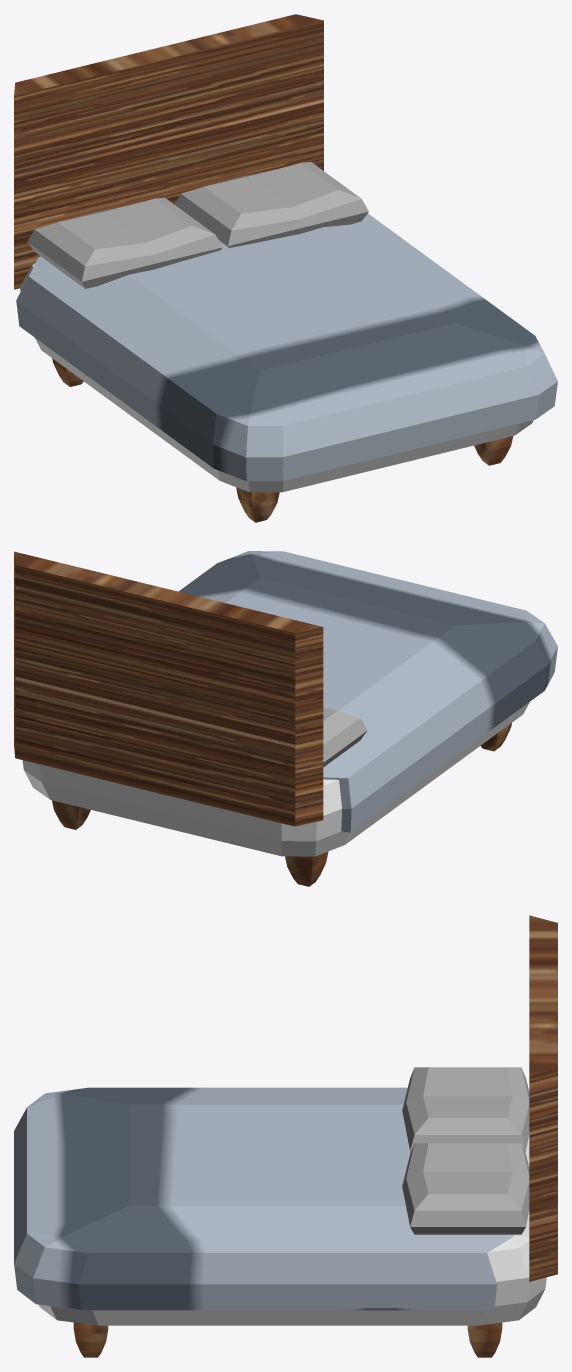
The model's file is Bed_Assets.fbx.
3 views of the same model, one above another, from view 1: azimuth 30°, elevation 25°; view 2: azimuth 150°, elevation 25°; view 3: azimuth 270°, elevation 25° (orthographic). The views are drawn at different scales.
Visible parts, largest first — view 1: Bed.001, Bed, Pillow, Pillow.001; view 2: Bed, Bed.001, Pillow; view 3: Bed.001, Bed, Pillow.001, Pillow.
Boxes of the visible parts, x1,y1,x2,y2 form: Bed.001: (16,213,557,481); Bed: (14,14,533,522); Pillow: (27,197,222,288); Pillow.001: (174,162,368,248); Bed: (14,551,529,886); Bed.001: (179,551,557,832); Pillow: (323,707,367,767); Bed.001: (14,1087,513,1310); Bed: (39,915,557,1357); Pillow.001: (402,1143,529,1234); Pillow: (402,1067,529,1151).
Bounding box in the file's own units: 82.79 × 66.39 × 110.
